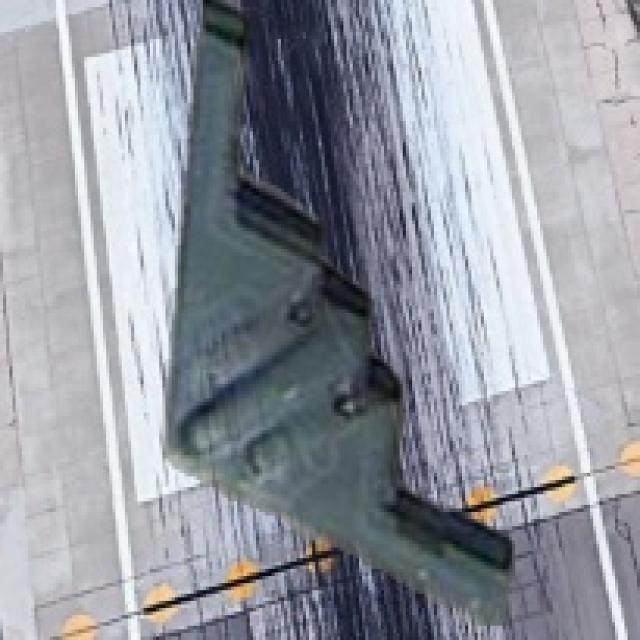B-2_TopDown: (153, 0, 518, 626)
